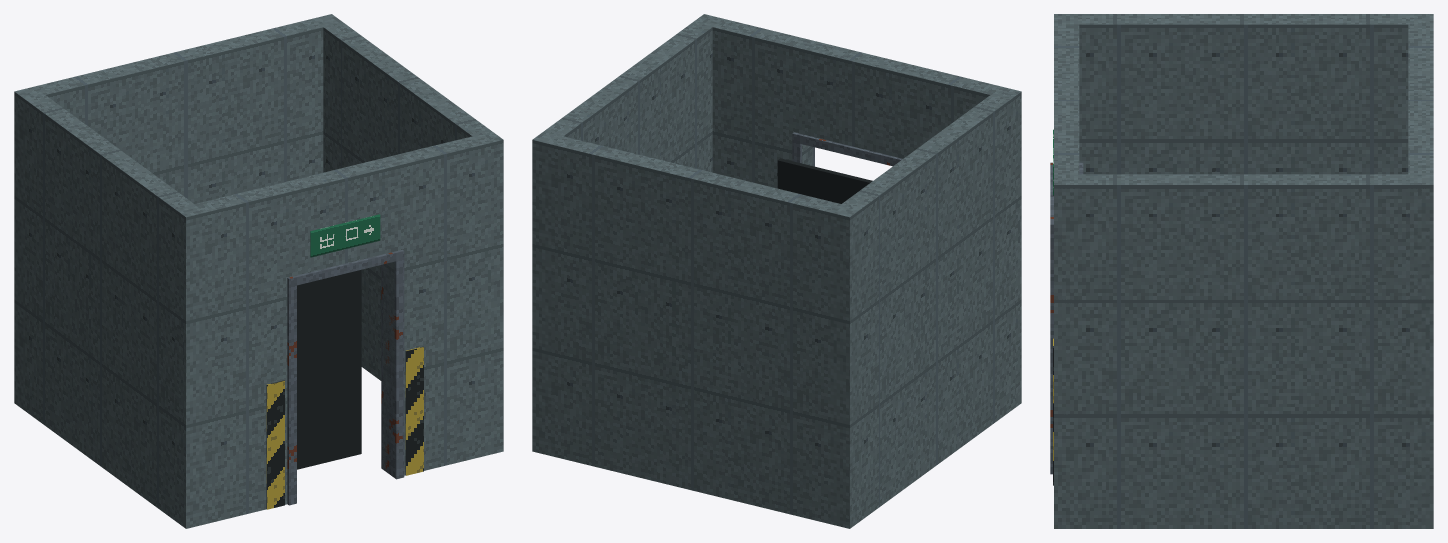
The model's file is stair_core.glb.
3 views of the same model, side by side, from view 1: azimuth 30°, elevation 25°; view 2: azimuth 150°, elevation 25°; view 3: azimuth 270°, elevation 25° (orthographic). The views are drawn at different scales.
Parts seen in each view (by area): view 1: stair_core; view 2: stair_core; view 3: stair_core.
Boxes of the visible parts, x1,y1,x2,y2 form: stair_core: (14,14,503,528); stair_core: (532,14,1021,528); stair_core: (1050,14,1433,528).
Bounding box in the file's own units: 3.2 × 3 × 3.03.
5 materials, 4 textured.
